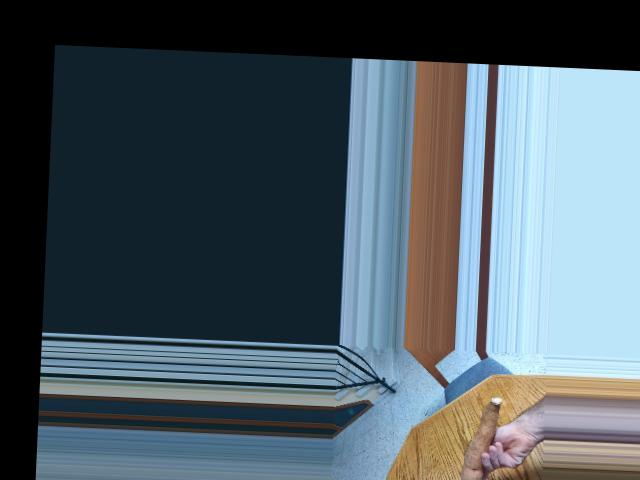sweet_potato: (456, 394, 503, 480)
